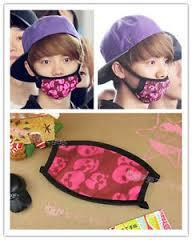NONE: (1, 30, 31, 70)
WRONG: (27, 55, 83, 111), (127, 55, 172, 103)
